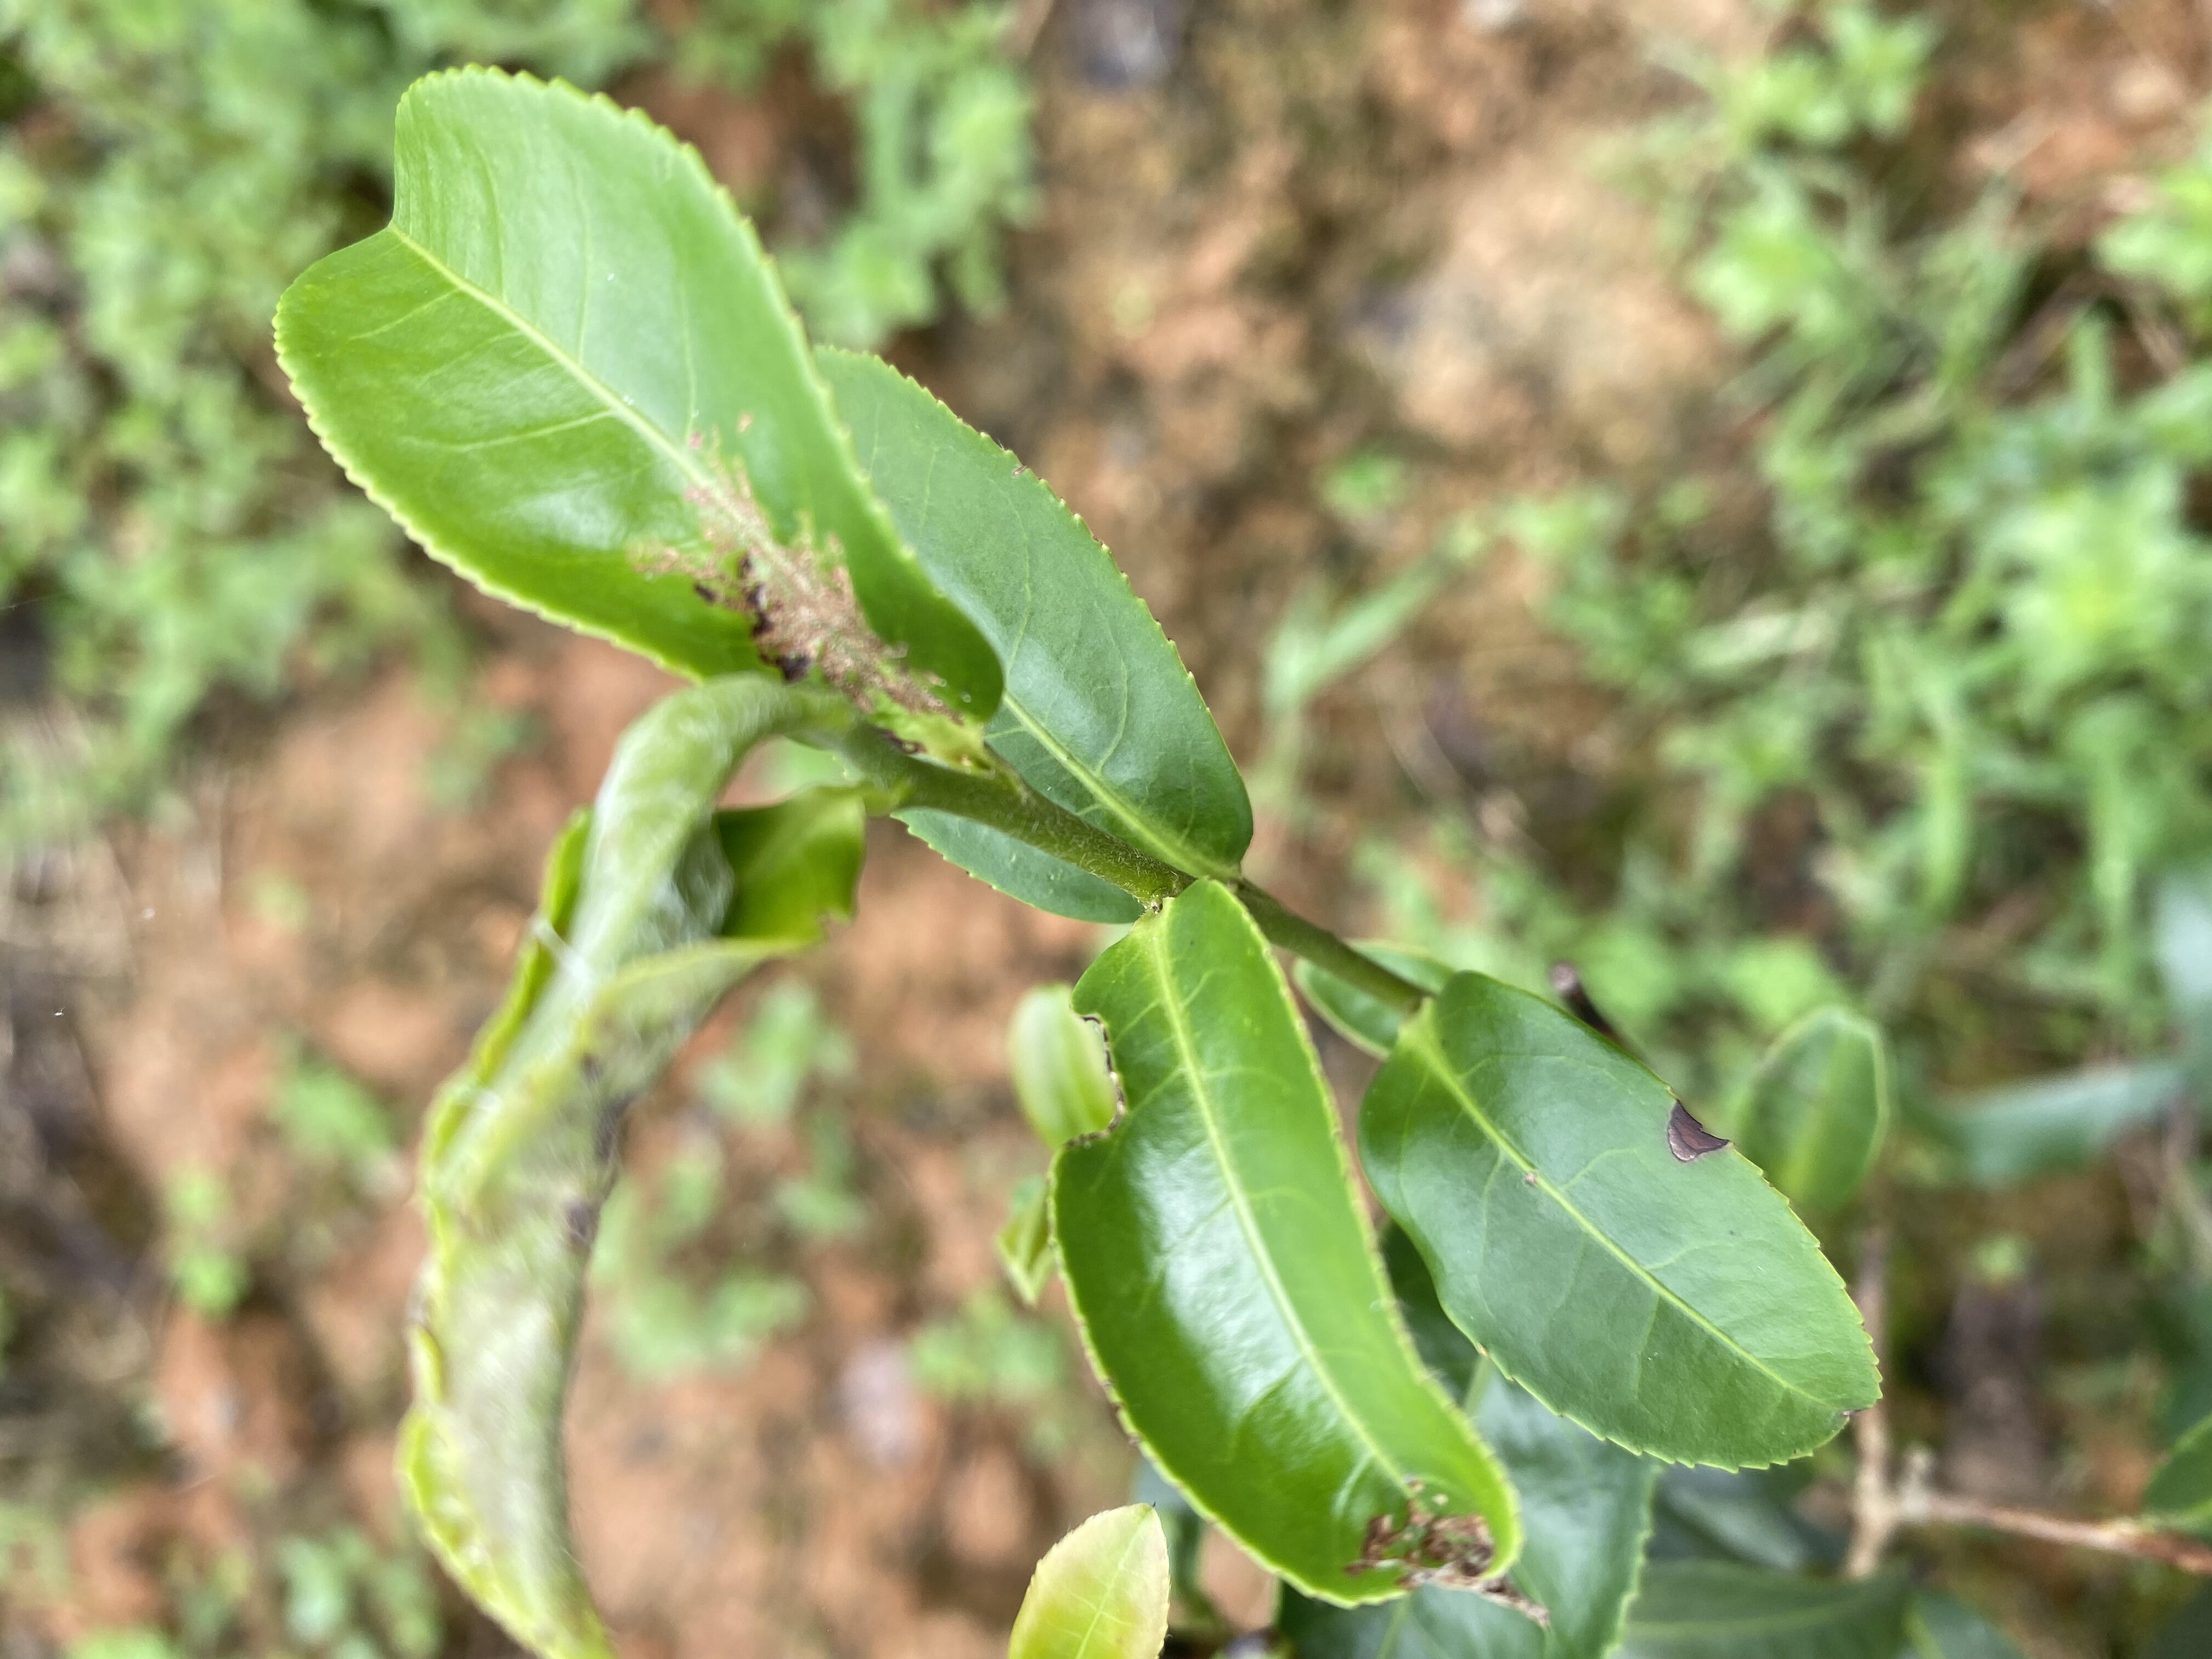tanju_high: (272, 61, 1007, 755), (399, 788, 866, 1657)
tanju_low: (1360, 971, 1879, 1473)
